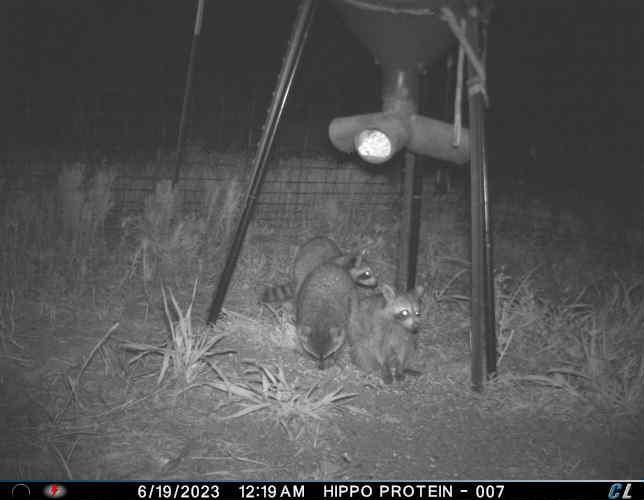Raccoon: (258, 235, 377, 305), (346, 282, 428, 383), (291, 262, 362, 372)
